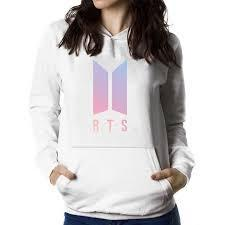sweater: (31, 17, 188, 217)
